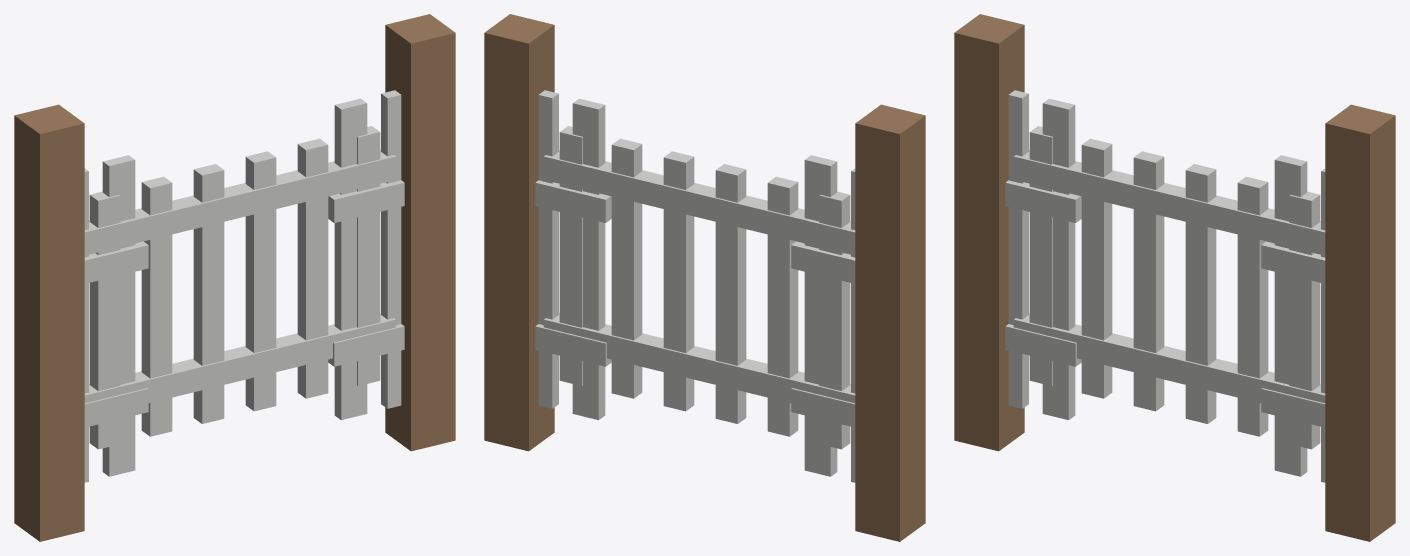
File: fence_picket_gate.glb
3 views of the same model, side by side, from view 1: azimuth 30°, elevation 25°; view 2: azimuth 150°, elevation 25°; view 3: azimuth 330°, elevation 25° (orthographic).
Visible parts, largest first — view 1: fence, gate_leaf; view 2: fence, gate_leaf; view 3: fence, gate_leaf.
Part boxes in pixels (bbox=[...]): fence: bbox=[14, 14, 455, 541]; gate_leaf: bbox=[84, 126, 396, 449]; fence: bbox=[484, 14, 925, 541]; gate_leaf: bbox=[543, 126, 855, 449]; fence: bbox=[954, 14, 1395, 541]; gate_leaf: bbox=[1013, 126, 1325, 449].
Bounding box in the file's own units: 1.12 × 1.05 × 0.12.
